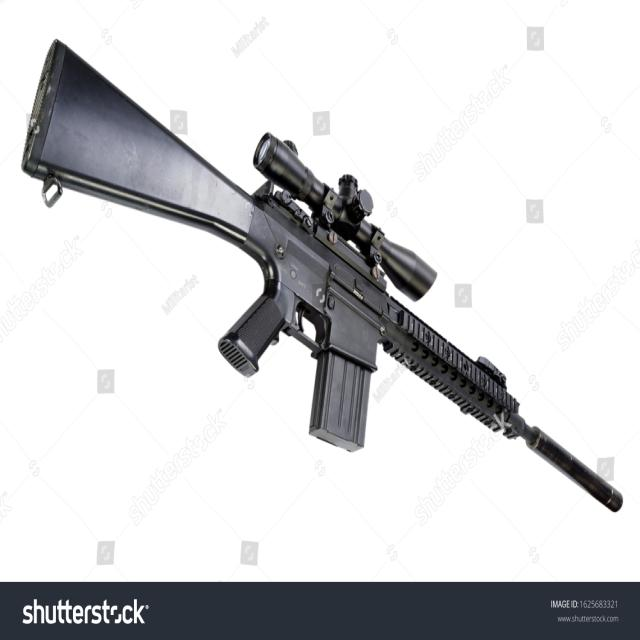Rifle: (21, 40, 624, 515)
